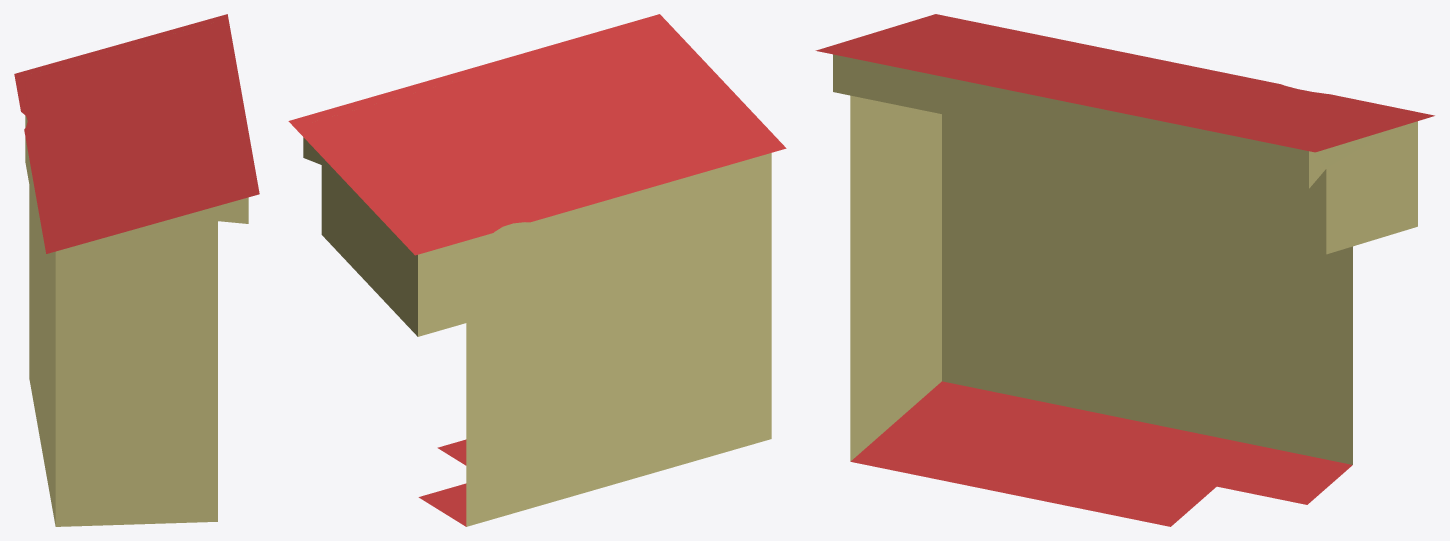
3 views of the same model, side by side, from view 1: azimuth 30°, elevation 25°; view 2: azimuth 150°, elevation 25°; view 3: azimuth 270°, elevation 25° (orthographic). The views are drawn at different scales.
Bounding box in the file's own units: 9.27 × 11.72 × 8.94.
